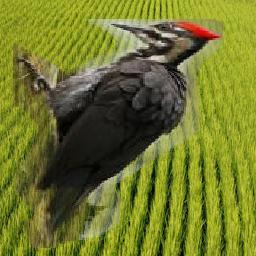Woodpecker: (13, 20, 223, 249)
